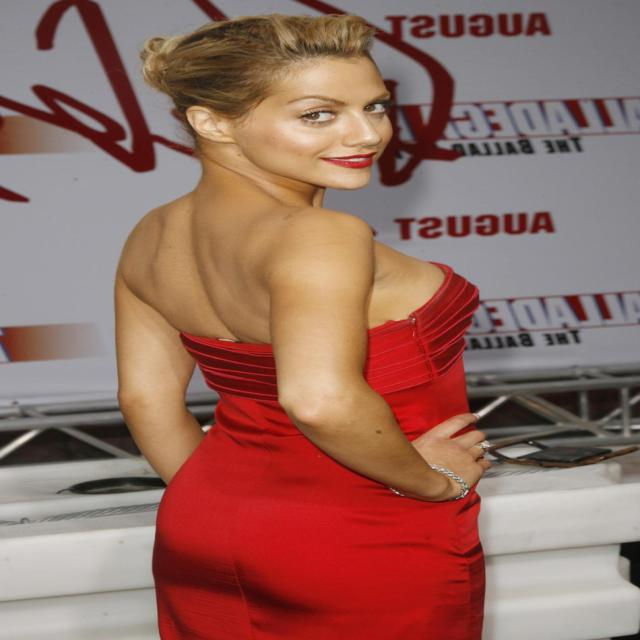no-earmuff: (172, 90, 259, 166)
